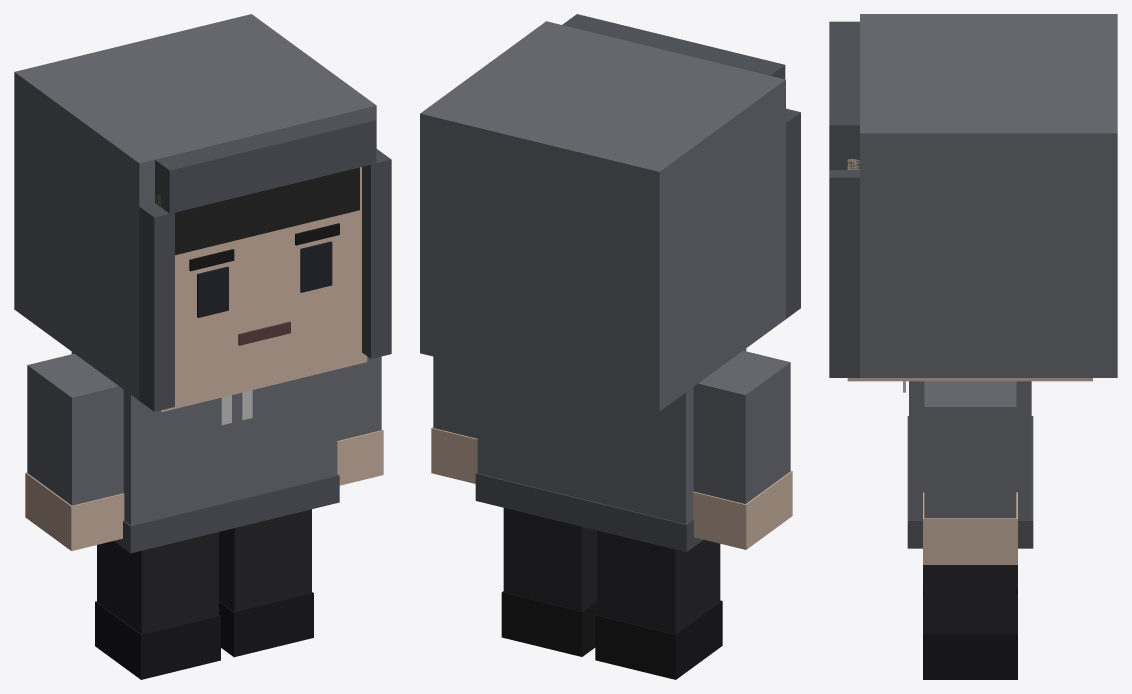
The model's file is npc_anti_male.fbx.
3 views of the same model, side by side, from view 1: azimuth 30°, elevation 25°; view 2: azimuth 150°, elevation 25°; view 3: azimuth 270°, elevation 25° (orthographic). The views are drawn at different scales.
Visible parts, largest first — view 1: npc_anti_male, ArmR, LegR, LegL, ArmL; view 2: npc_anti_male, ArmR, LegR, LegL, ArmL; view 3: npc_anti_male, ArmL, LegL.
Part boxes in pixels (<box>): npc_anti_male: <box>14,14,391,553</box>; ArmR: <box>25,353,124,550</box>; LegR: <box>95,532,220,679</box>; LegL: <box>219,509,313,657</box>; ArmL: <box>337,356,383,485</box>; npc_anti_male: <box>420,14,800,552</box>; ArmR: <box>693,350,792,549</box>; LegR: <box>595,530,722,679</box>; LegL: <box>501,508,597,656</box>; ArmL: <box>431,356,477,483</box>; npc_anti_male: <box>829,14,1117,548</box>; ArmL: <box>923,381,1017,564</box>; LegL: <box>923,565,1017,679</box>.
Bounding box in the file's own units: 0.5324 × 0.891 × 0.4136.
